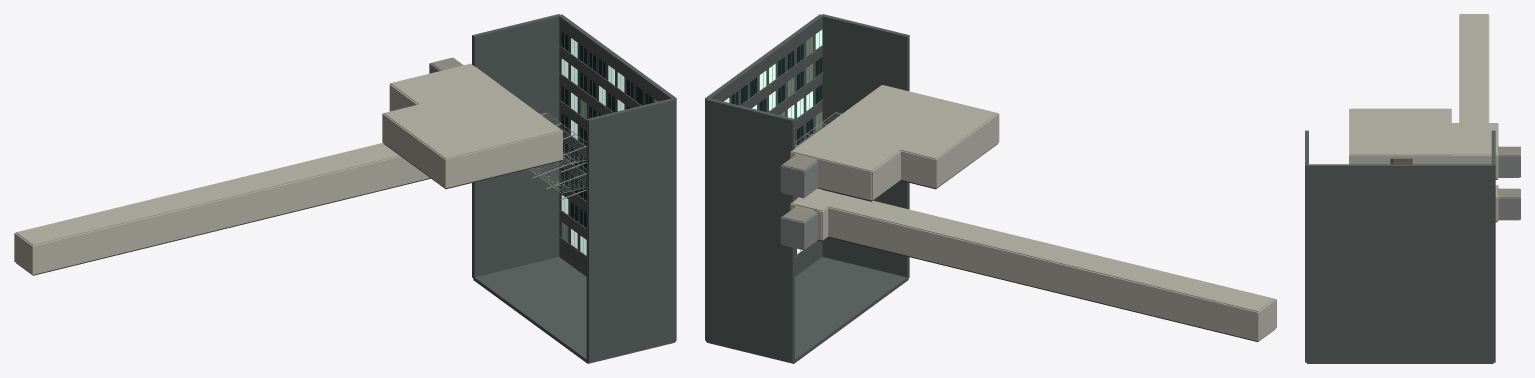
Rendered from rifkin_office.glb.
The picture shows the model from 3 angles, left to right: view 1: azimuth 30°, elevation 25°; view 2: azimuth 150°, elevation 25°; view 3: azimuth 270°, elevation 25°; orthographic projection. The views are drawn at different scales.
Visible parts, largest first — view 1: Service court side facade, Service court side facade.001, Wall exit corridor side, Opposing office facade, Ceiling backing, Ceiling backing exit corridor, Court floor far below, Wall south, Wall west, Ceiling backing break room, Ceiling backing upper lobby, Floor exit corridor (+2 smaller); view 2: Service court side facade.001, Wall exit corridor side.001, Service court side facade, Ceiling backing exit corridor, Ceiling backing, Court floor far below, Opposing office facade, Wall west, Wall break room north, Ceiling backing break room, Wall north west of staff door, Ceiling backing upper lobby (+6 smaller); view 3: Opposing office facade, Ceiling backing, Ceiling backing exit corridor, Ceiling backing break room, Service court side facade.001, Ceiling backing upper lobby, Service court side facade, Wall elevator upper side.001, Wall elevator lower side.001, Wall upper lobby east, Wall east south of window, Wall east north of window (+5 smaller).
Boxes of the visible parts, x1,y1,x2,y2 form: Service court side facade: [586, 98, 675, 362]; Service court side facade.001: [472, 14, 559, 277]; Wall exit corridor side: [33, 156, 429, 274]; Opposing office facade: [558, 14, 676, 340]; Ceiling backing: [383, 85, 561, 158]; Ceiling backing exit corridor: [16, 143, 399, 245]; Court floor far below: [473, 257, 674, 363]; Wall south: [445, 130, 562, 188]; Wall west: [382, 114, 445, 187]; Ceiling backing break room: [390, 71, 468, 104]; Ceiling backing upper lobby: [440, 63, 499, 92]; Floor exit corridor: [16, 178, 430, 275]; Service court side facade.001: [706, 98, 794, 362]; Wall exit corridor side.001: [828, 207, 1257, 340]; Service court side facade: [821, 14, 909, 277]; Ceiling backing exit corridor: [828, 195, 1274, 311]; Ceiling backing: [821, 85, 997, 158]; Court floor far below: [707, 257, 908, 363]; Opposing office facade: [705, 14, 823, 340]; Wall west: [936, 114, 998, 187]; Wall break room north: [817, 158, 871, 200]; Ceiling backing break room: [822, 137, 900, 171]; Wall north west of staff door: [900, 150, 936, 188]; Ceiling backing upper lobby: [791, 130, 850, 159]; Opposing office facade: [1307, 164, 1493, 363]; Ceiling backing: [1349, 108, 1450, 155]; Ceiling backing exit corridor: [1460, 14, 1488, 122]; Ceiling backing break room: [1451, 123, 1497, 142]; Service court side facade.001: [1491, 130, 1495, 362]; Ceiling backing upper lobby: [1450, 142, 1497, 155]; Service court side facade: [1305, 130, 1308, 362]; Wall elevator upper side.001: [1498, 155, 1519, 177]; Wall elevator lower side.001: [1498, 198, 1519, 219]; Wall upper lobby east: [1451, 155, 1497, 178]; Wall east south of window: [1349, 155, 1390, 164]; Wall east north of window: [1412, 155, 1450, 164].
Bounding box in the file's own units: 66.59 × 28.2 × 27.75.
Materials: 32 (10 with a texture image).
